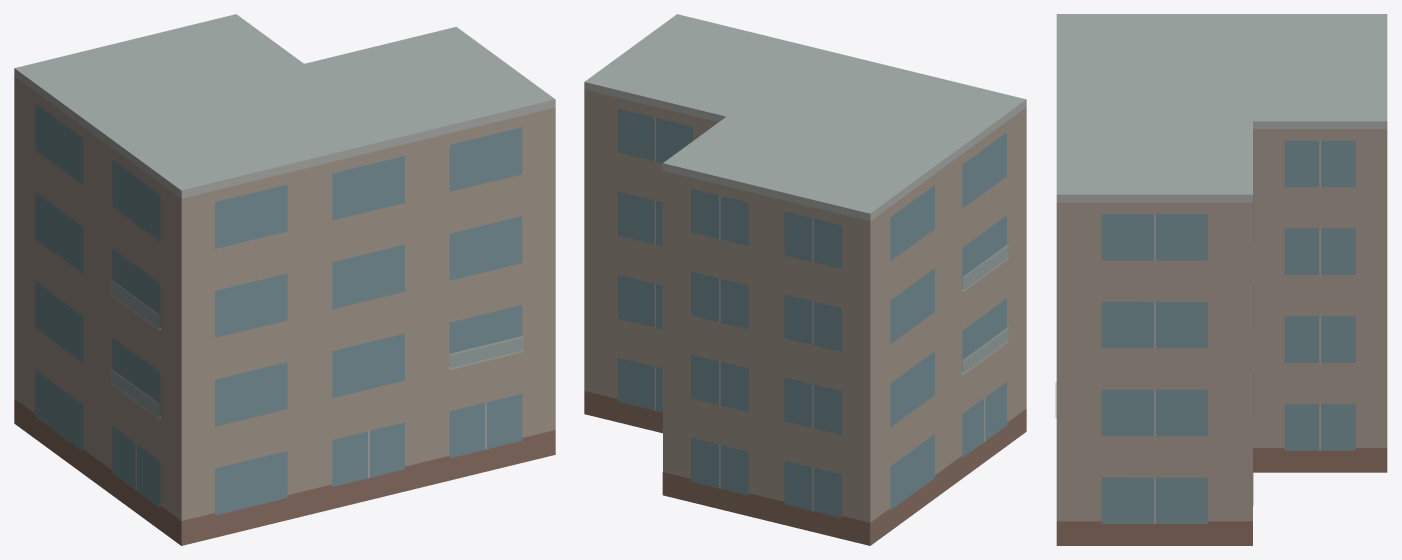
Rendered from survey-upis-32558438.glb.
3 renders of one model, left to right at view 1: azimuth 30°, elevation 25°; view 2: azimuth 150°, elevation 25°; view 3: azimuth 270°, elevation 25°, orthographic. The views are drawn at different scales.
Visible parts, largest first — view 1: survey-upis-32558438.tmp; view 2: survey-upis-32558438.tmp; view 3: survey-upis-32558438.tmp.
Boxes of the visible parts, bbox=[...] form: survey-upis-32558438.tmp: bbox=[14, 14, 555, 545]; survey-upis-32558438.tmp: bbox=[584, 14, 1026, 545]; survey-upis-32558438.tmp: bbox=[1055, 14, 1387, 545].
Bounding box in the file's own units: 11.84 × 10.7 × 9.18.
